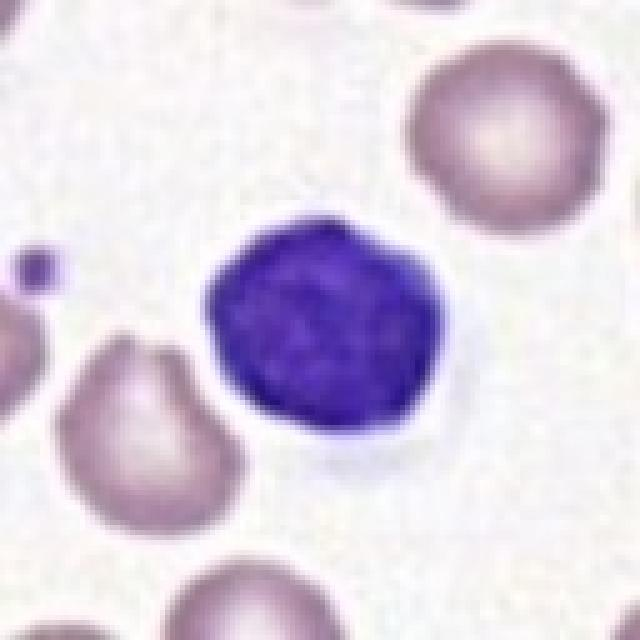lympho: (201, 213, 449, 436)
